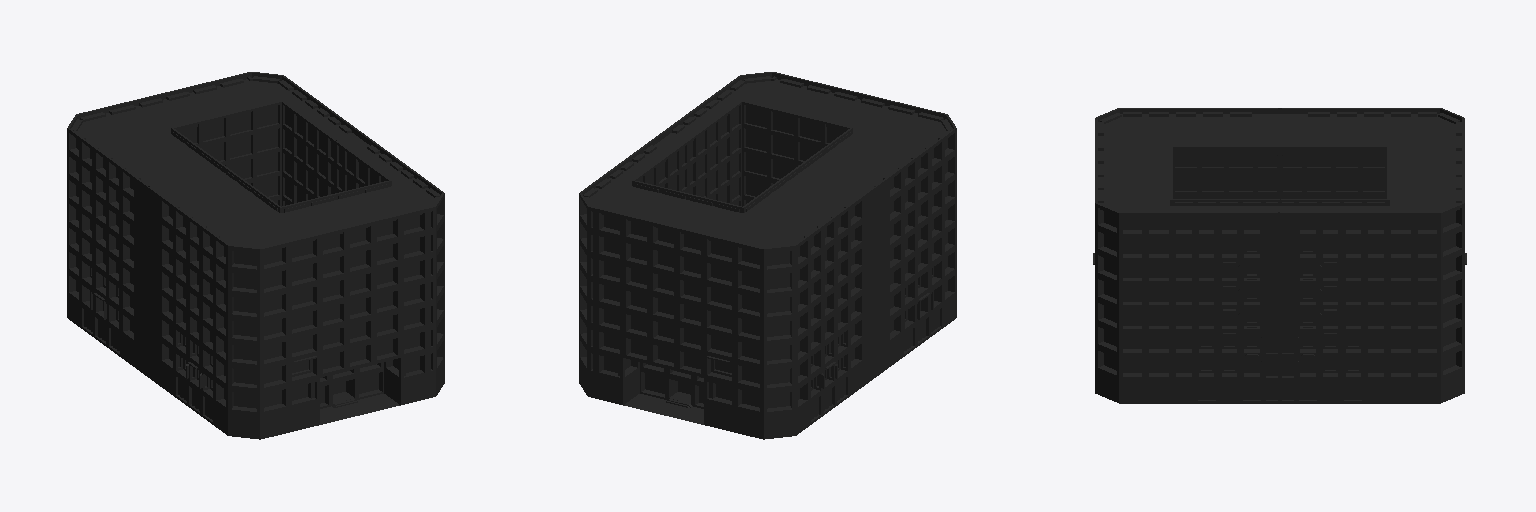
File: Building.obj
3 renders of one model, left to right at view 1: azimuth 30°, elevation 25°; view 2: azimuth 150°, elevation 25°; view 3: azimuth 270°, elevation 25°, orthographic.
Visible parts, largest first — view 1: objMesh; view 2: objMesh; view 3: objMesh.
Part boxes in pixels (bbox=[...]): objMesh: bbox=[67, 72, 444, 439]; objMesh: bbox=[579, 72, 956, 439]; objMesh: bbox=[1093, 108, 1466, 403].
Bounding box in the file's own units: 15.26 × 12.57 × 22.36.